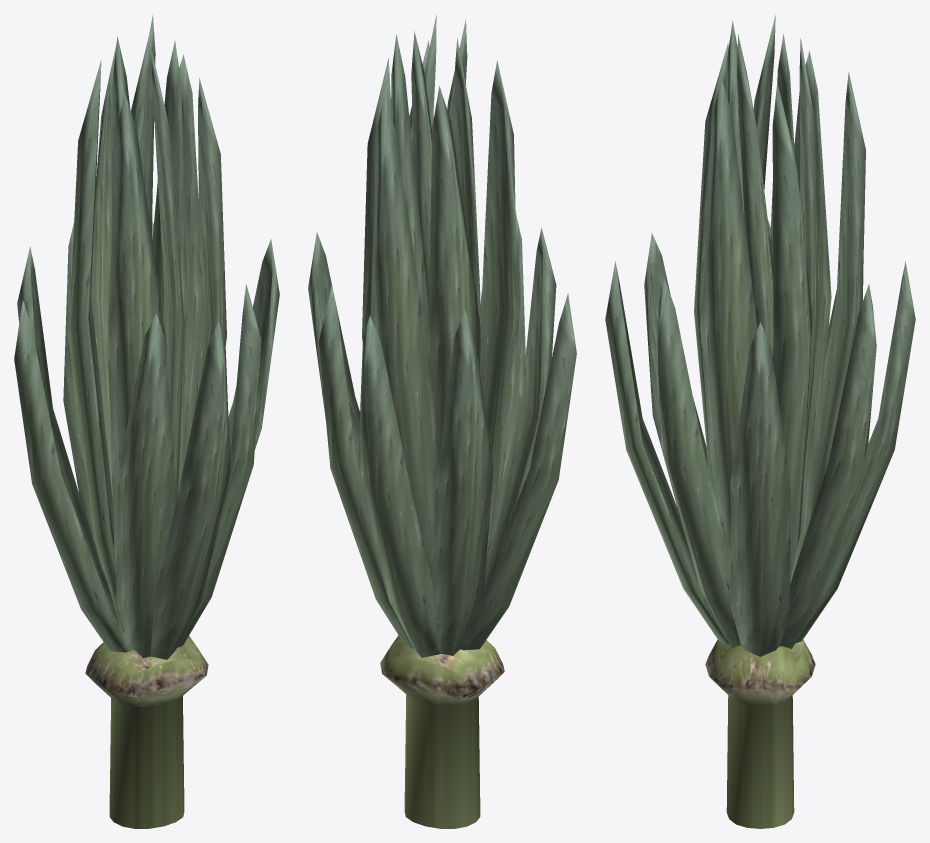
The model's file is agave_a.dae.
3 renders of one model, left to right at view 1: azimuth 30°, elevation 25°; view 2: azimuth 150°, elevation 25°; view 3: azimuth 270°, elevation 25°, orthographic.
Visible parts, largest first — view 1: Cube; view 2: Cube; view 3: Cube.
Boxes of the visible parts, box(x1,y1,x2,y2) form: Cube: box(14, 15, 279, 828); Cube: box(308, 14, 576, 828); Cube: box(605, 15, 915, 828).
Size of the model in its own units: 1.42 by 1.42 by 3.98.
